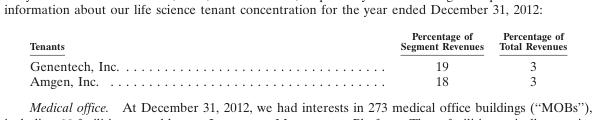table: (28, 29, 566, 88)
table column: (258, 29, 490, 88), (28, 29, 258, 88), (490, 29, 566, 88)
table column header: (28, 29, 566, 54)
table row: (28, 29, 566, 54), (28, 54, 566, 73), (28, 73, 566, 88)
